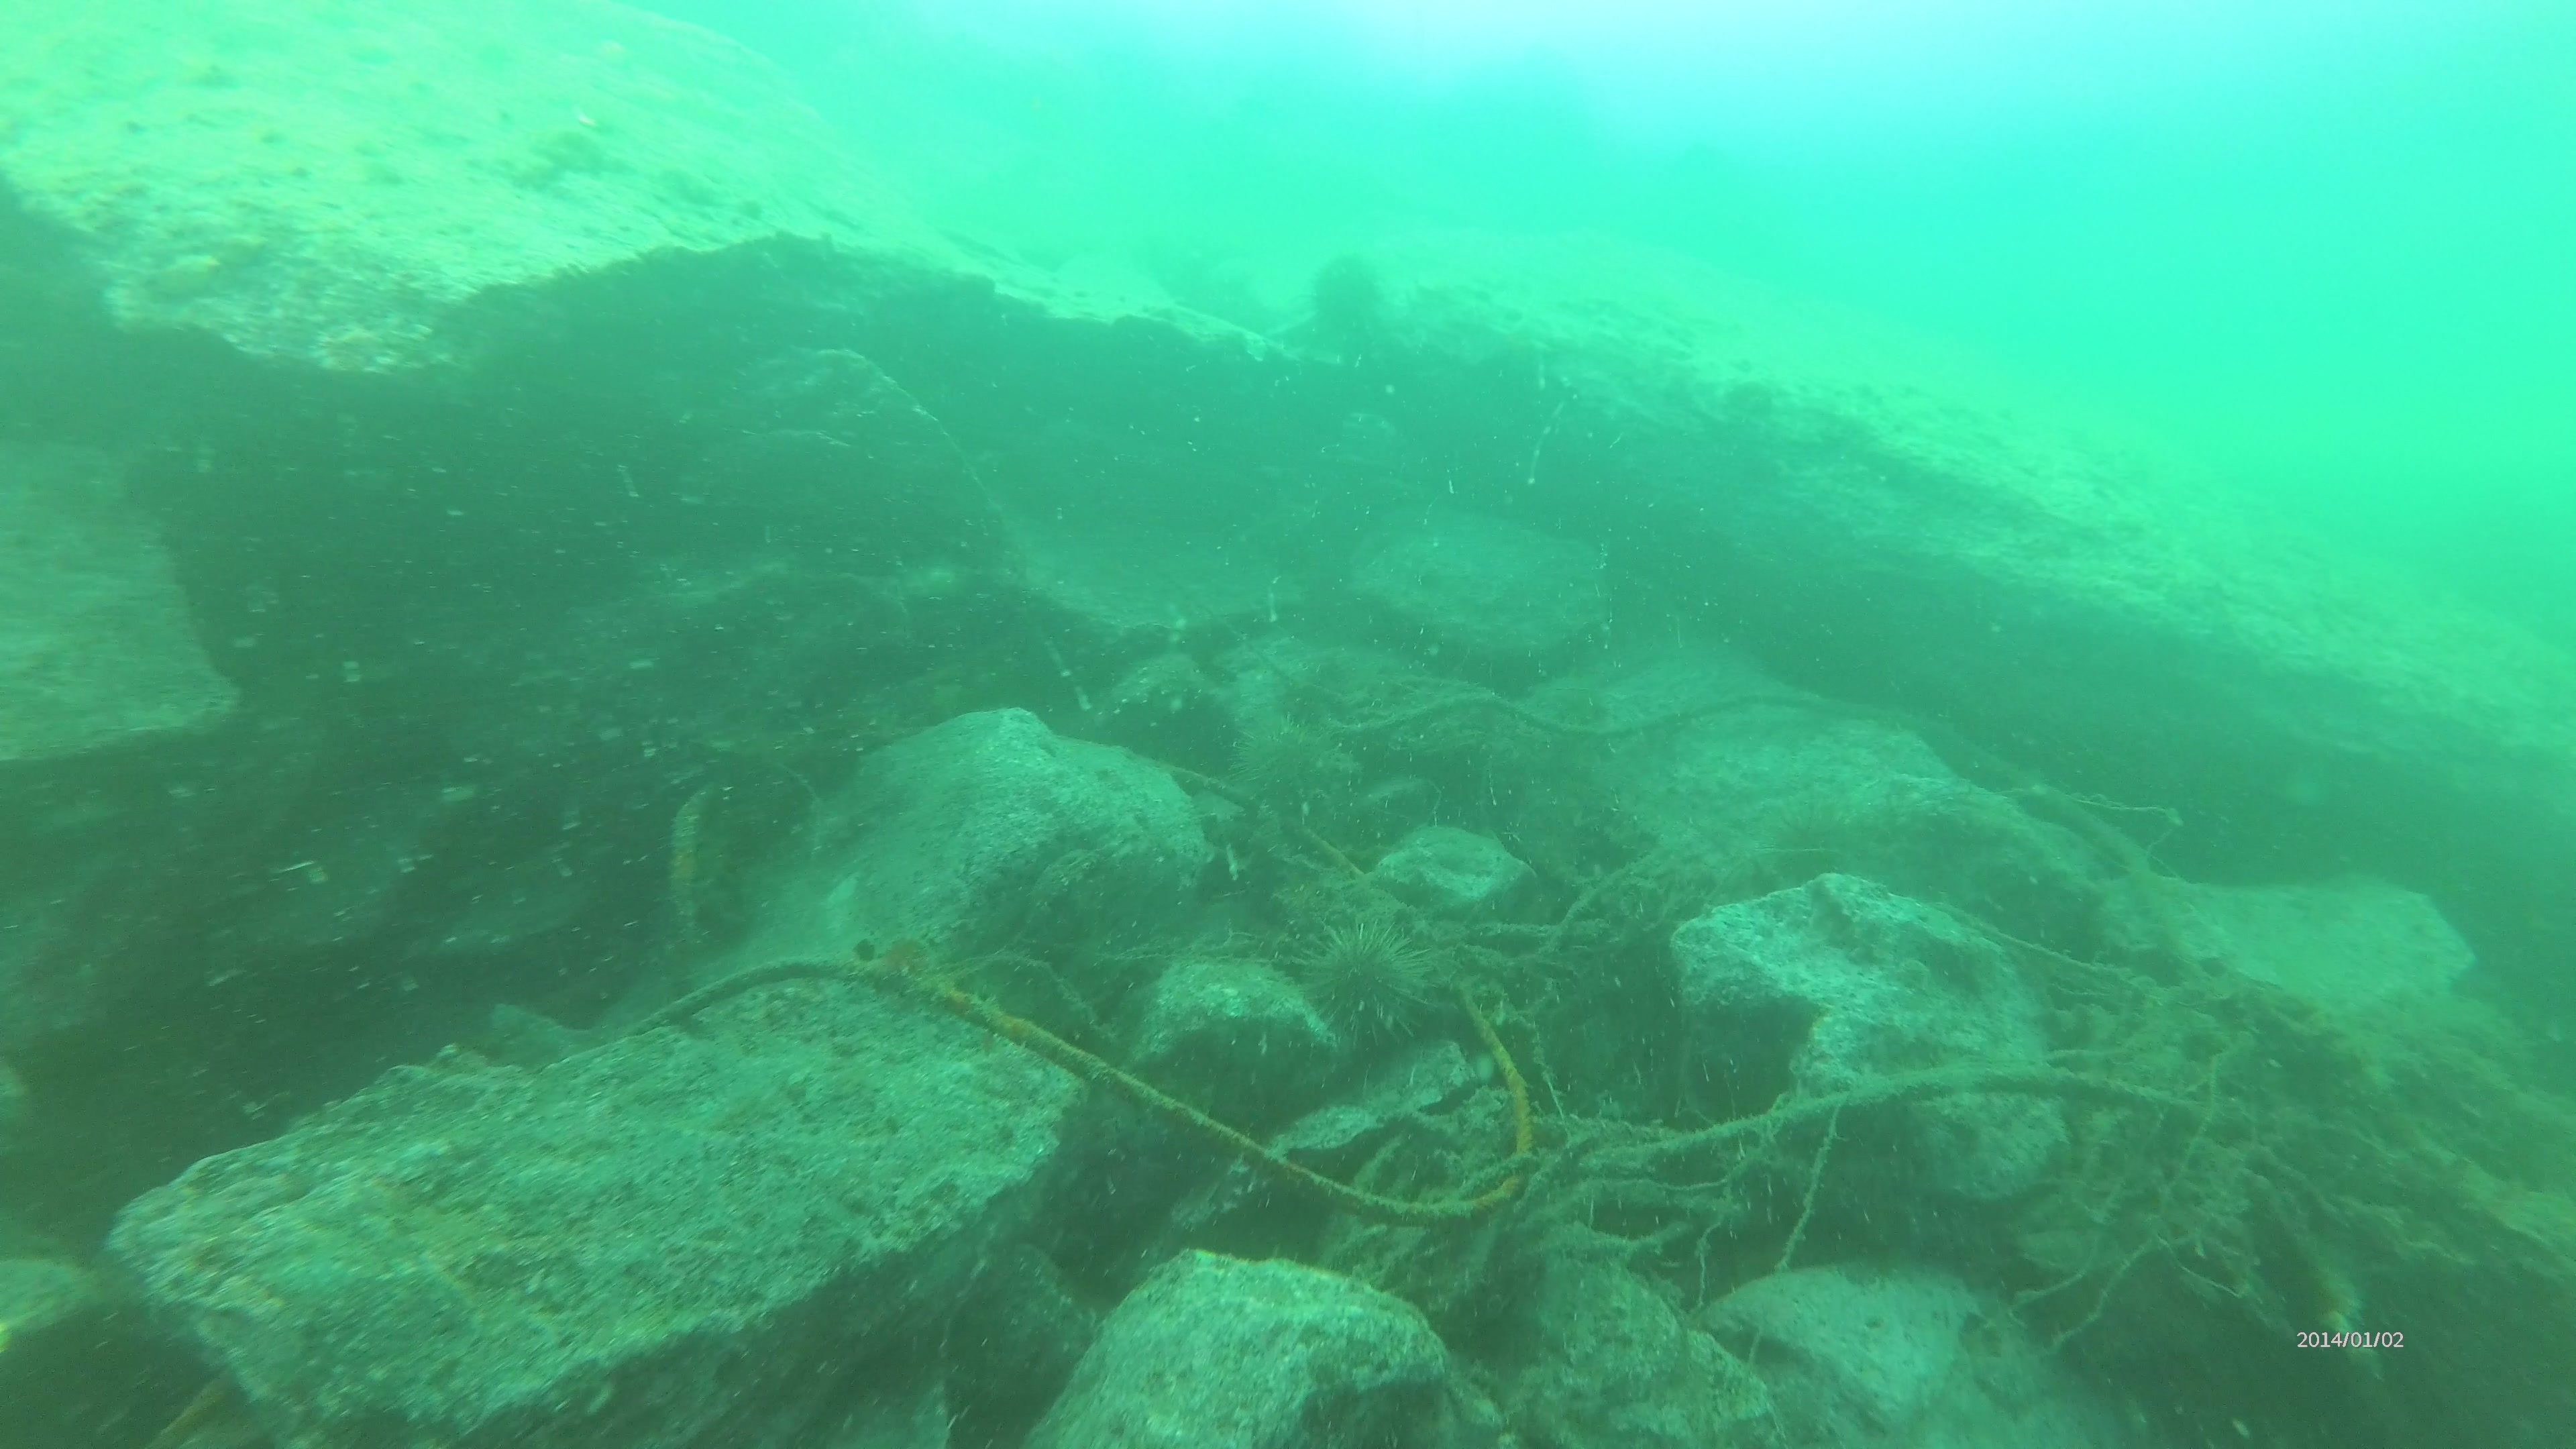echinus: (1283, 920, 1415, 1030), (1238, 725, 1336, 798)
